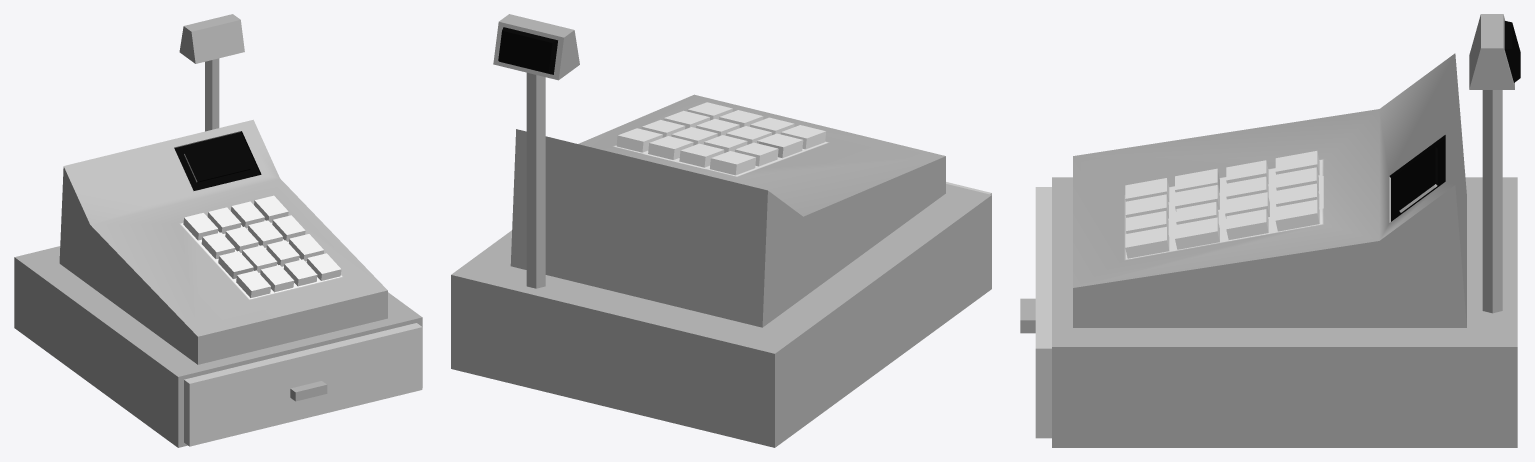
The model's file is cashier.glb.
3 views of the same model, side by side, from view 1: azimuth 30°, elevation 25°; view 2: azimuth 150°, elevation 25°; view 3: azimuth 270°, elevation 25° (orthographic). The views are drawn at different scales.
Visible parts, largest first — view 1: Cashier; view 2: Cashier; view 3: Cashier.
Part boxes in pixels (box(x1,y1,x2,y2)): Cashier: box(14, 14, 422, 447); Cashier: box(451, 14, 991, 447); Cashier: box(1020, 14, 1520, 447).
Bounding box in the file's own units: 0.038 × 0.0395 × 0.0473.
Materials: 1 (1 with a texture image).
